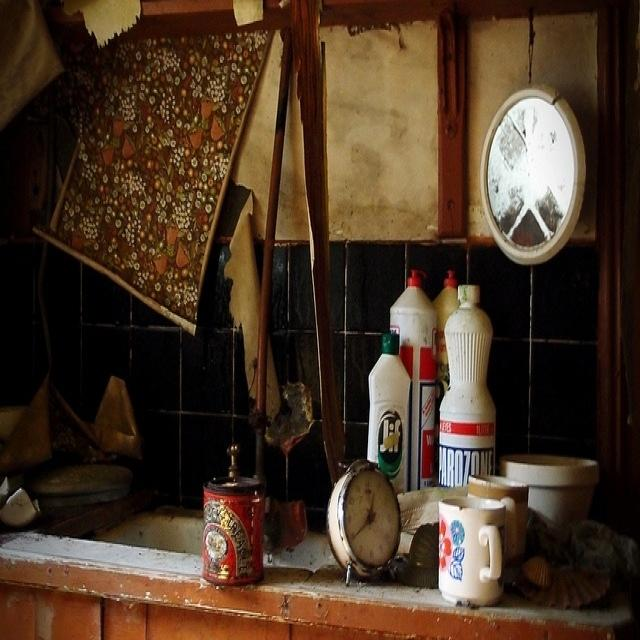Plastics: (352, 260, 514, 478), (422, 448, 612, 606)
can: (182, 435, 269, 597)
